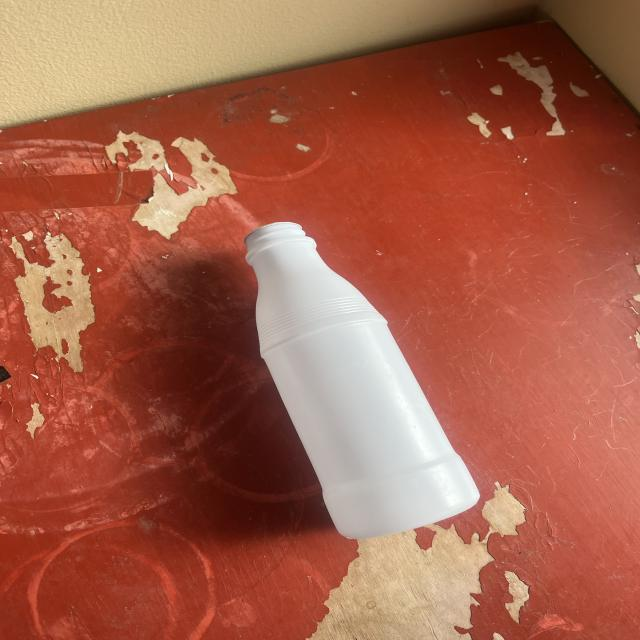HDPE_Bottle: (246, 223, 479, 538)
